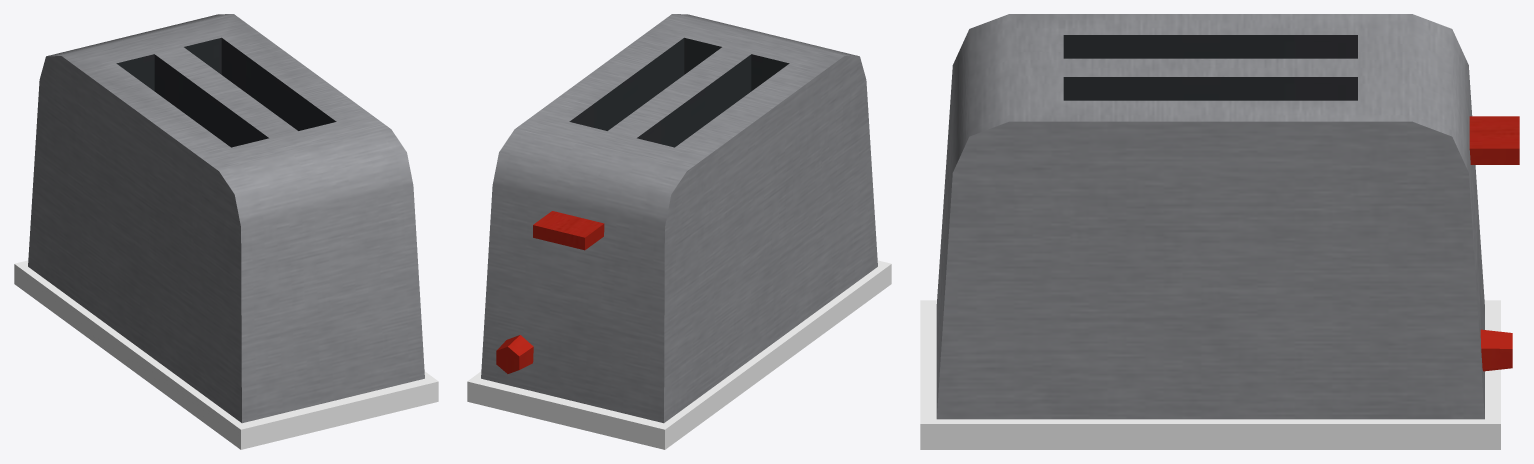
The model's file is Toaster.glb.
3 views of the same model, side by side, from view 1: azimuth 30°, elevation 25°; view 2: azimuth 150°, elevation 25°; view 3: azimuth 270°, elevation 25° (orthographic). The views are drawn at different scales.
Visible parts, largest first — view 1: Toaster; view 2: Toaster; view 3: Toaster.
Boxes of the visible parts, left/top/right/bottom form: Toaster: left=14, top=14, right=438, bottom=449; Toaster: left=467, top=14, right=891, bottom=449; Toaster: left=920, top=14, right=1519, bottom=449.
Bounding box in the file's own units: 0.2102 × 0.254 × 0.4304.
Materials: 4 (3 with a texture image).
